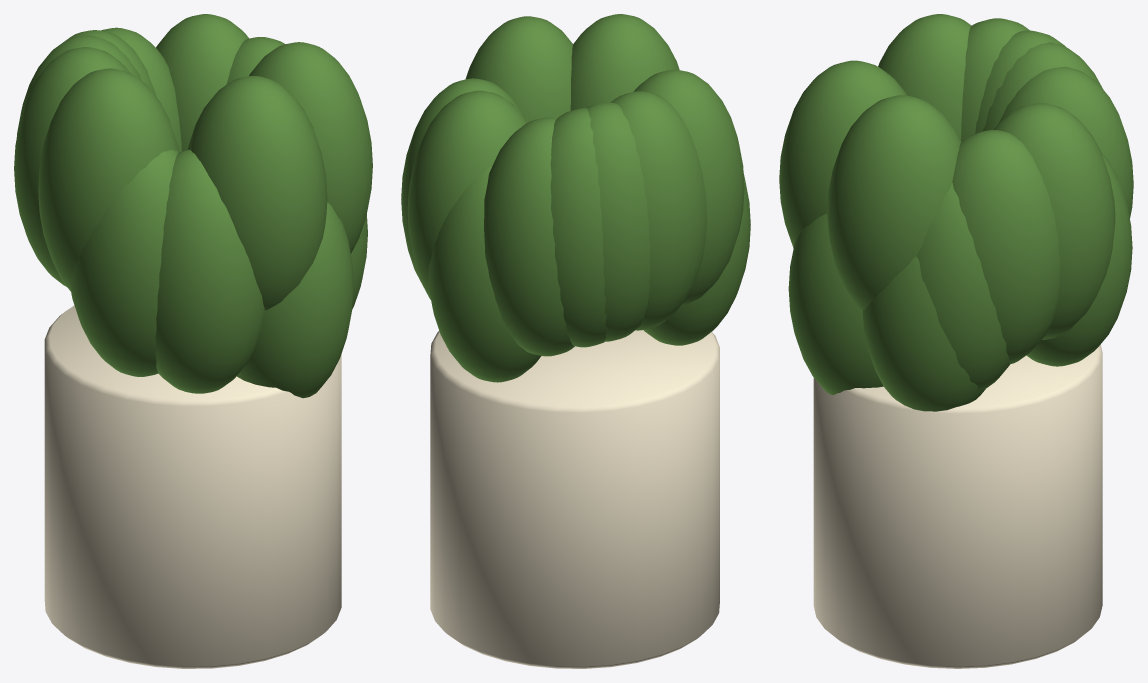
File: SM_EG_HerbPlanter_V01_4ced14a098.fbx
3 views of the same model, side by side, from view 1: azimuth 30°, elevation 25°; view 2: azimuth 150°, elevation 25°; view 3: azimuth 270°, elevation 25° (orthographic). The views are drawn at different scales.
Parts seen in each view (by area): view 1: SM_EG_HerbPlanter_V01_4ced14a098; view 2: SM_EG_HerbPlanter_V01_4ced14a098; view 3: SM_EG_HerbPlanter_V01_4ced14a098.
Part boxes in pixels (bbox=[...]): SM_EG_HerbPlanter_V01_4ced14a098: bbox=[14, 14, 372, 668]; SM_EG_HerbPlanter_V01_4ced14a098: bbox=[401, 14, 750, 668]; SM_EG_HerbPlanter_V01_4ced14a098: bbox=[779, 14, 1133, 668].
Size of what is drawn, in the model's own units: 59.72 by 61.31 by 105.
